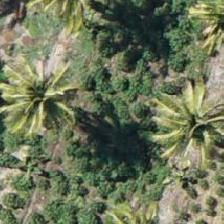coconut_tree: (0, 42, 80, 132), (146, 76, 223, 166)
